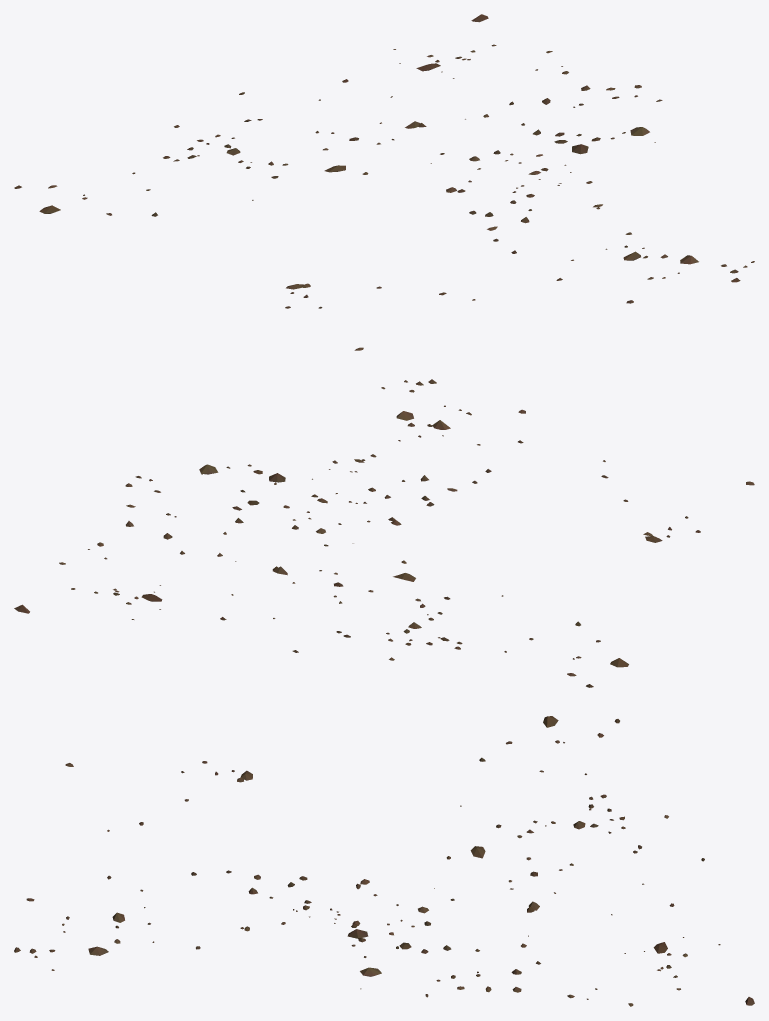
The model's file is ground-0-1.glb.
3 renders of one model, top to bottom at view 1: azimuth 30°, elevation 25°; view 2: azimuth 150°, elevation 25°; view 3: azimuth 270°, elevation 25°, orthographic. The views are drawn at different scales.
Visible parts, largest first — view 1: ground-0-1; view 2: ground-0-1; view 3: ground-0-1.
Part boxes in pixels (left/top/right/bottom): ground-0-1: left=14, top=14, right=754, bottom=350; ground-0-1: left=14, top=379, right=754, bottom=687; ground-0-1: left=14, top=716, right=754, bottom=1006.
Bounding box in the file's own units: 17.74 × 0.9455 × 18.61.
